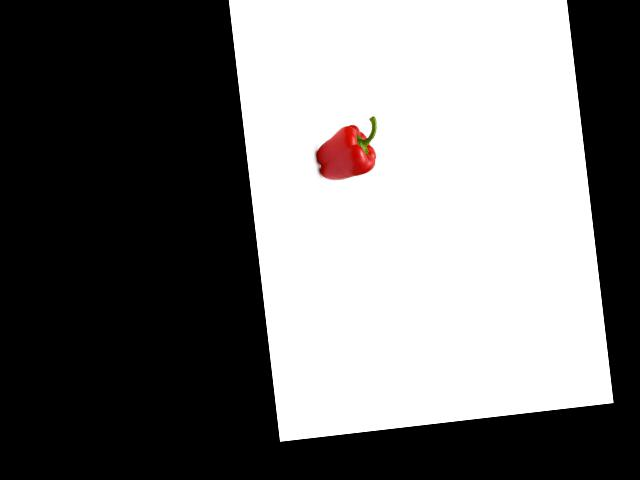bell_pepper: (308, 113, 386, 185)
